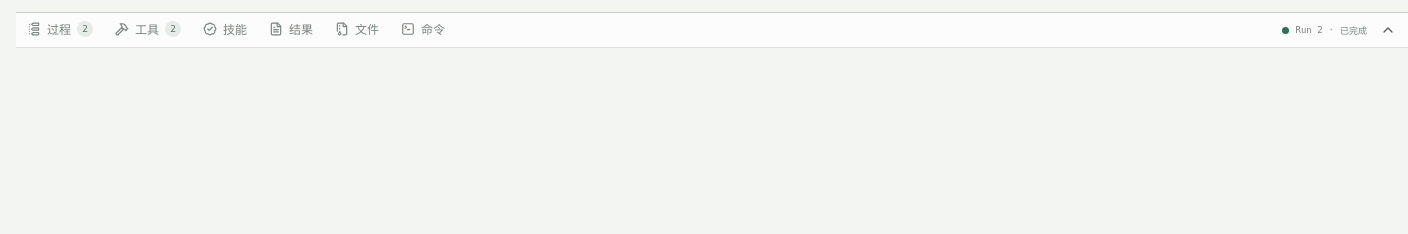
Test case: RunDrawer › describes proposal staging conservatively and does not infer unknown tool scope
Step 1. Click the tab "工具 2" → (148,30), box [104, 13, 192, 47]
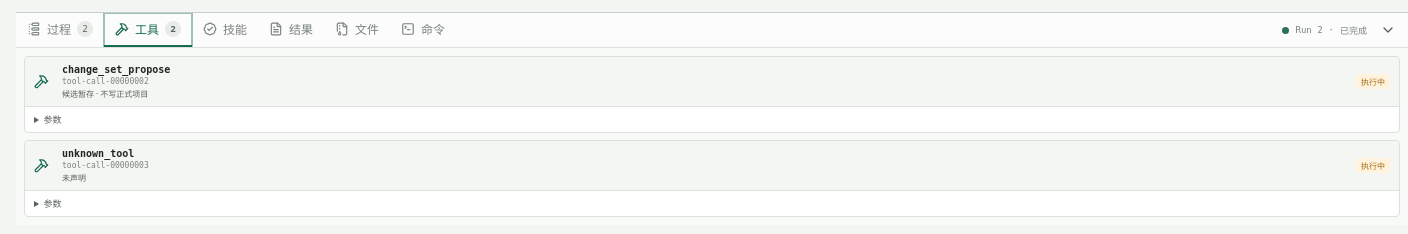
Expected: the text "候选暂存 · 不写正式项目" is shown, [62, 88, 148, 99]
Expected: the text "未声明" is shown, [62, 172, 86, 183]
